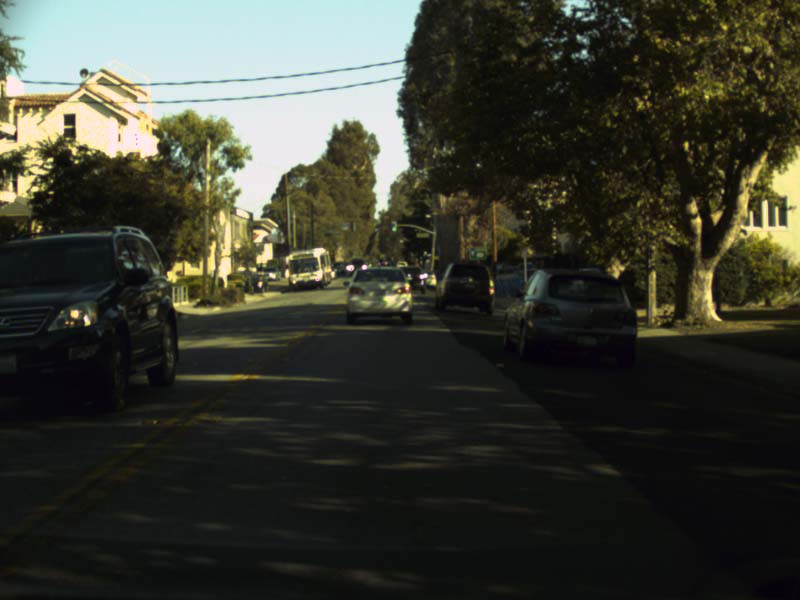Green: (390, 221, 396, 231)
